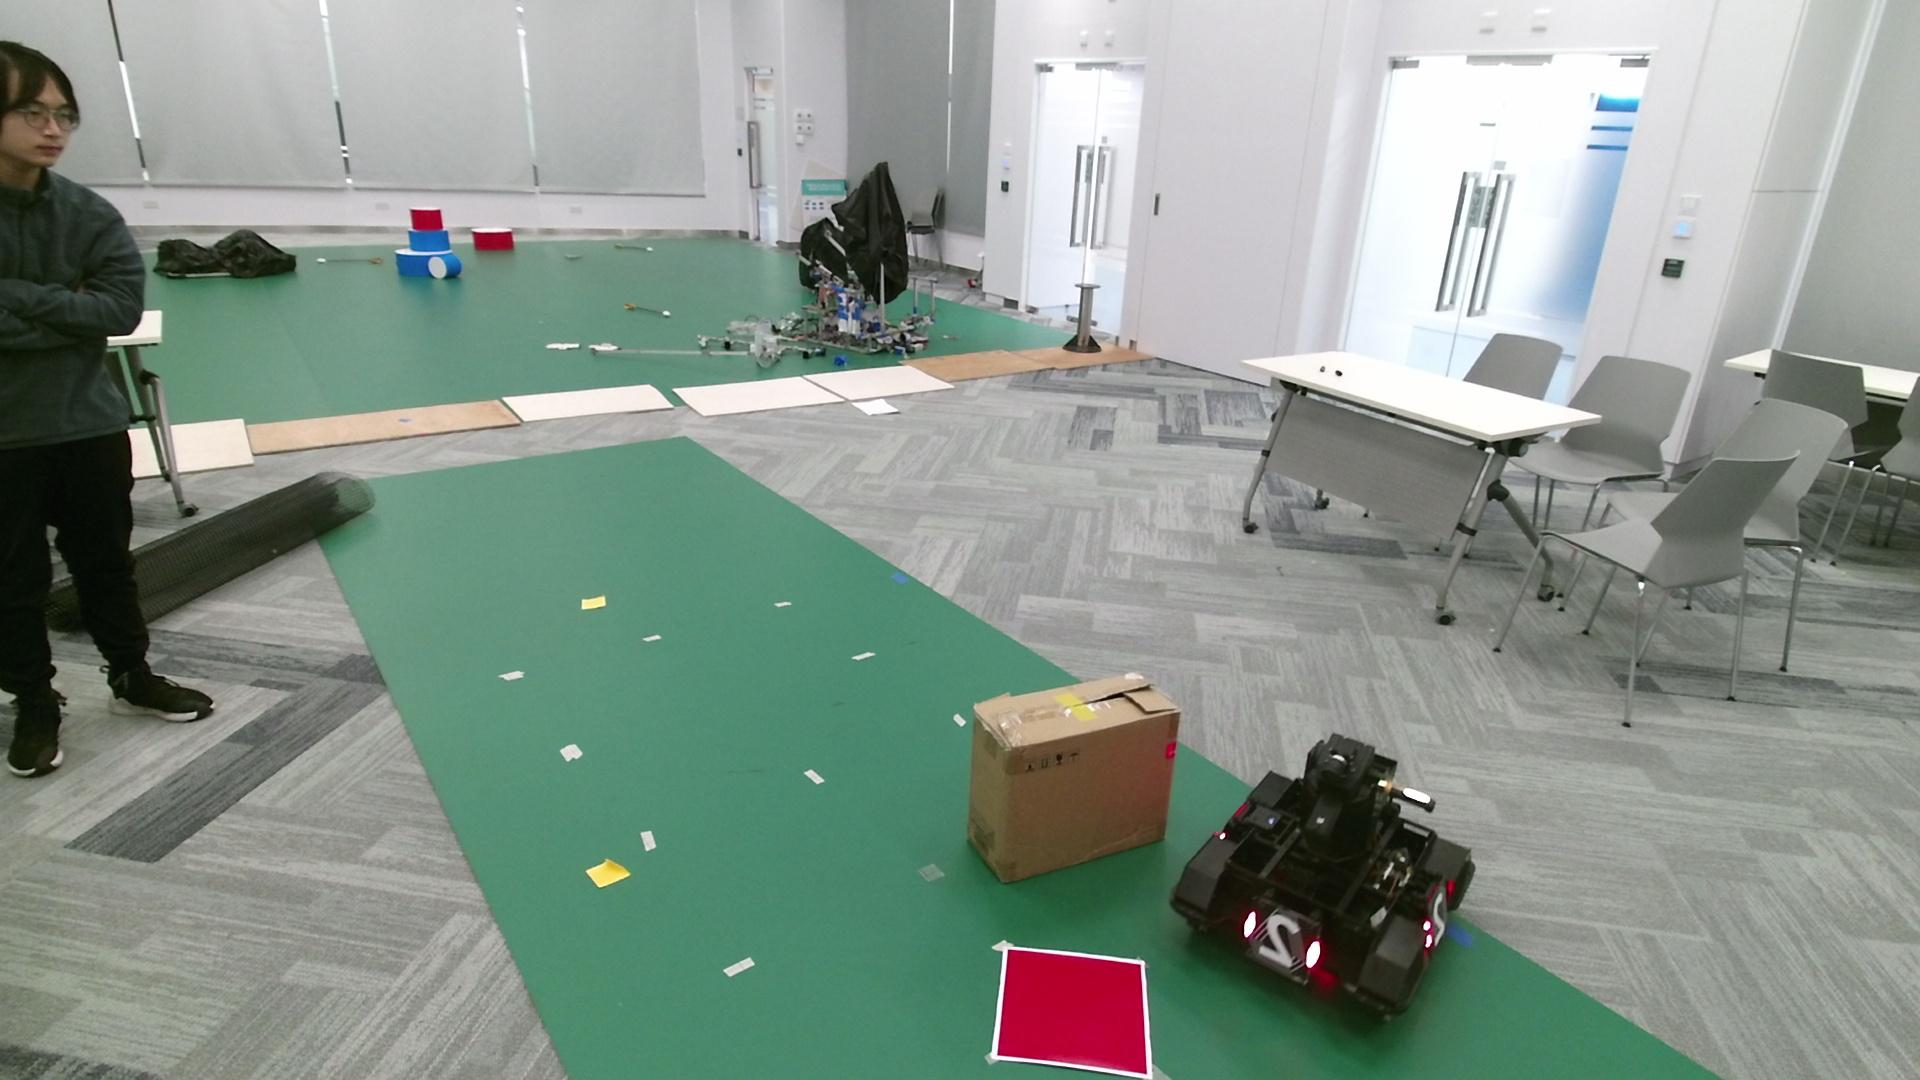robot: (1168, 731, 1476, 1018)
